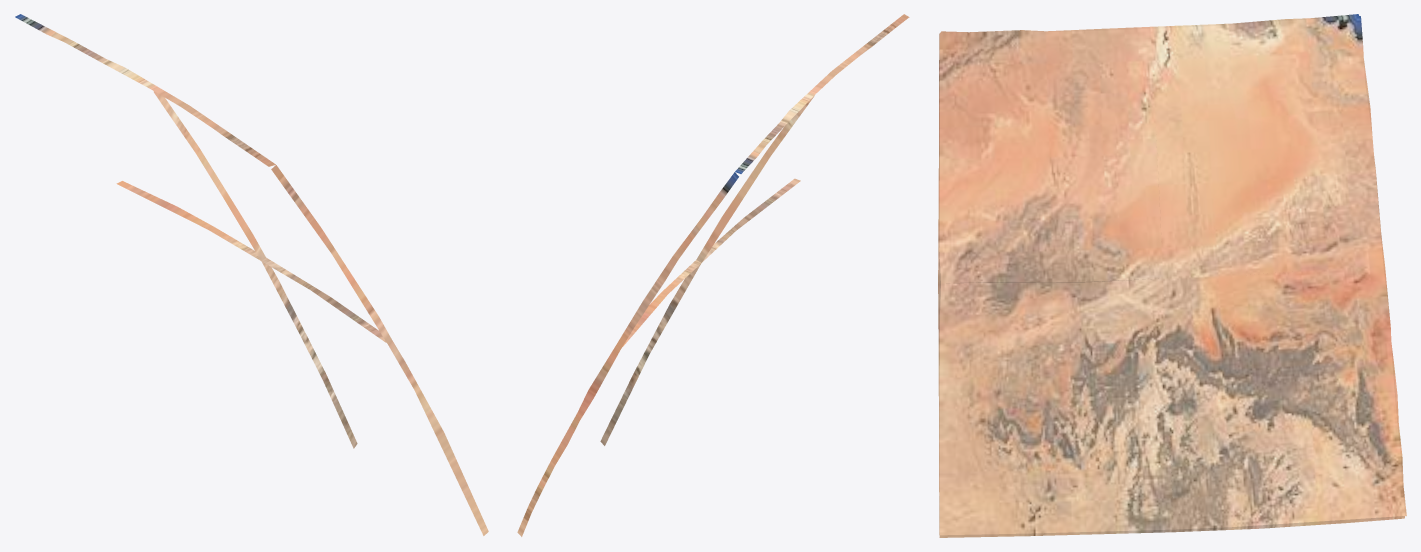
3 views of the same model, side by side, from view 1: azimuth 30°, elevation 25°; view 2: azimuth 150°, elevation 25°; view 3: azimuth 270°, elevation 25° (orthographic). The views are drawn at different scales.
Bounding box in the file's own units: 706475 × 1117037 × 1165212.
Materials: 1 (1 with a texture image).
